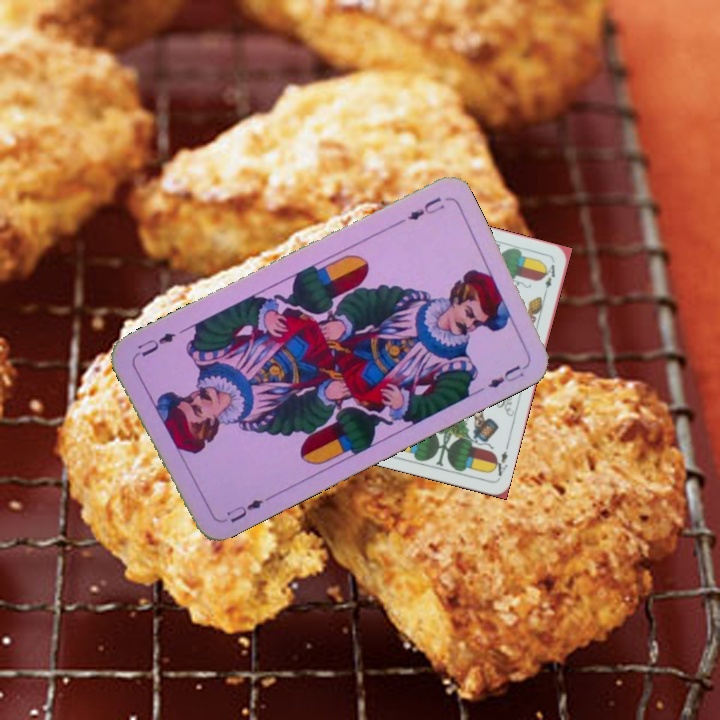EA: (488, 441, 511, 478)
EU: (403, 192, 448, 223), (222, 495, 266, 525)
